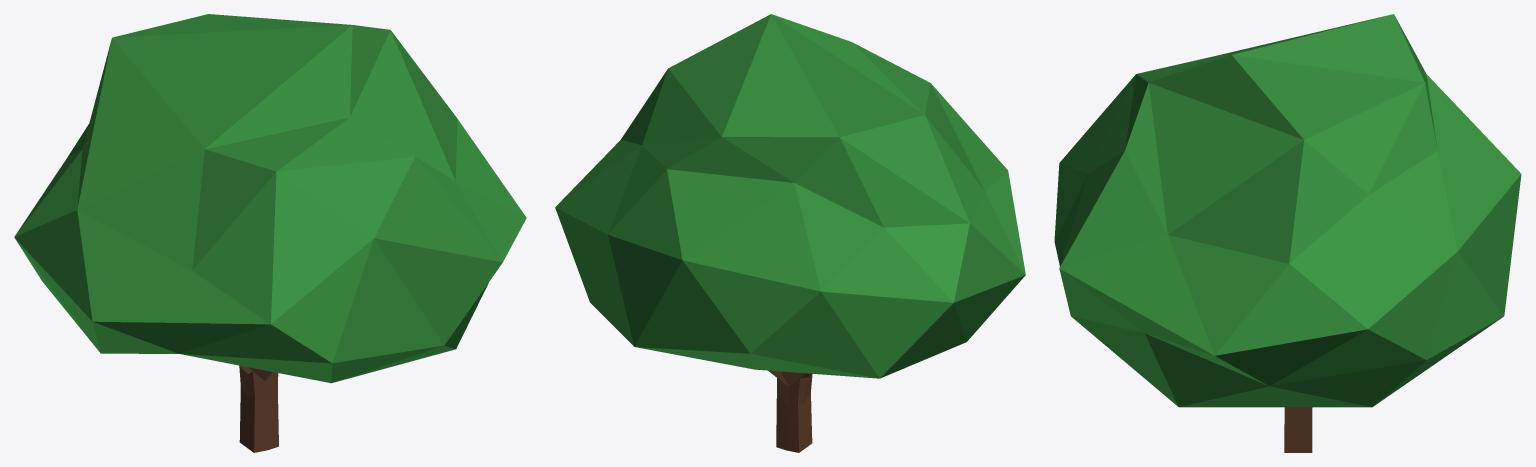
File: Tree_8_Green.fbx
3 renders of one model, left to right at view 1: azimuth 30°, elevation 25°; view 2: azimuth 150°, elevation 25°; view 3: azimuth 270°, elevation 25°, orthographic. The views are drawn at different scales.
Visible parts, largest first — view 1: Tree_8_Green_Part_1, Tree_8_Green_Part_2; view 2: Tree_8_Green_Part_1, Tree_8_Green_Part_2; view 3: Tree_8_Green_Part_1, Tree_8_Green_Part_2.
Boxes of the visible parts, left/top/right/bottom form: Tree_8_Green_Part_1: left=14, top=14, right=526, bottom=383; Tree_8_Green_Part_2: left=239, top=365, right=278, bottom=452; Tree_8_Green_Part_1: left=555, top=14, right=1025, bottom=378; Tree_8_Green_Part_2: left=768, top=370, right=812, bottom=452; Tree_8_Green_Part_1: left=1054, top=14, right=1521, bottom=407; Tree_8_Green_Part_2: left=1284, top=407, right=1312, bottom=452.
Size of the model in its own units: 804 by 762 by 766.
